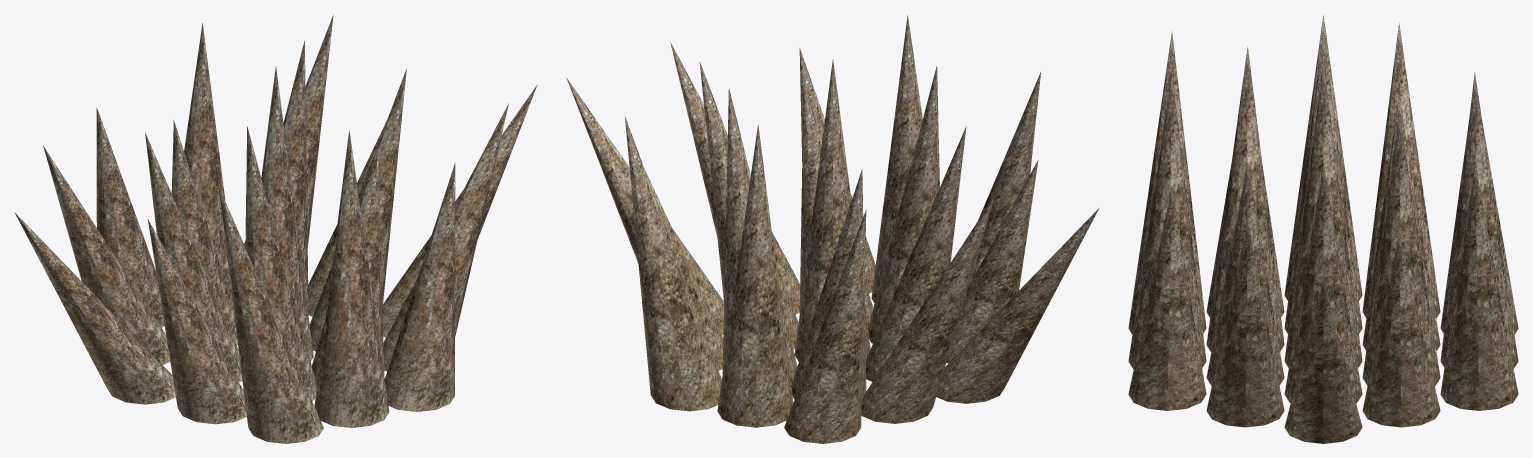
The model's file is SPIKE.fbx.
3 renders of one model, left to right at view 1: azimuth 30°, elevation 25°; view 2: azimuth 150°, elevation 25°; view 3: azimuth 270°, elevation 25°, orthographic. The views are drawn at different scales.
Parts seen in each view (by area): view 1: SPIKE; view 2: SPIKE; view 3: SPIKE.
Part boxes in pixels (x1,y1,x2,y2): SPIKE: (14, 14, 537, 443); SPIKE: (566, 15, 1099, 443); SPIKE: (1128, 14, 1518, 443).
Bounding box in the file's own units: 320 × 170 × 200.
1 material, 1 textured.
